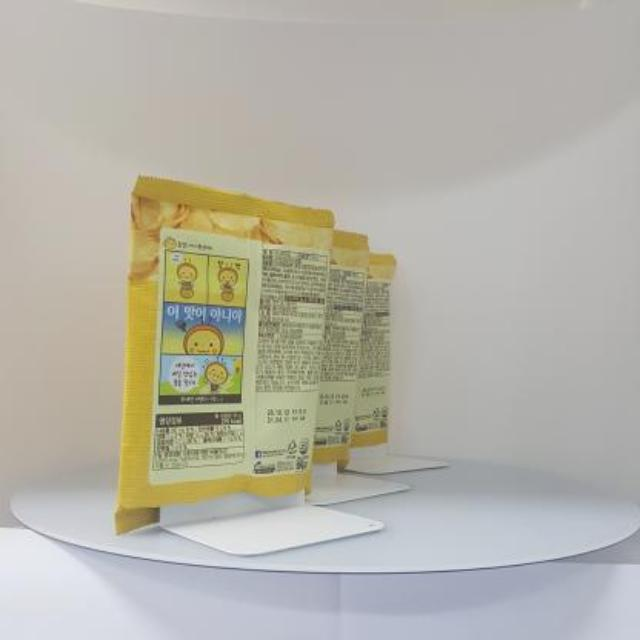snack_bag: (101, 162, 417, 542)
